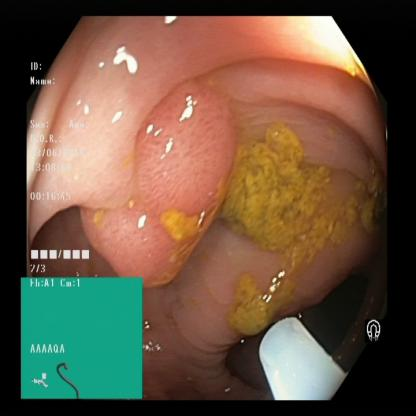Labels: (226, 126, 382, 264), (19, 274, 146, 400), (28, 56, 94, 276), (365, 320, 385, 350)
Polyps: (98, 95, 242, 280)
